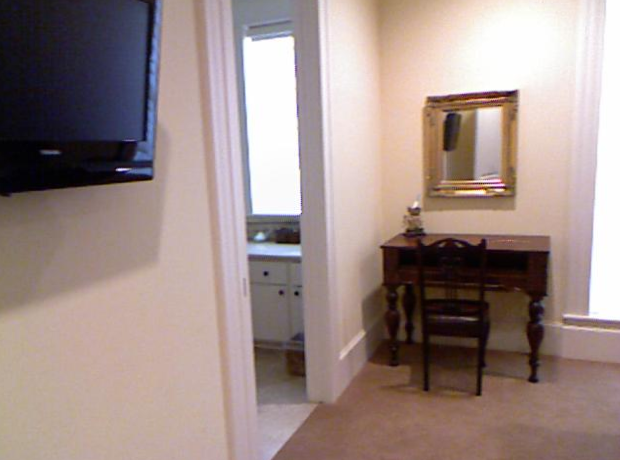cabinetDoor: (252, 286, 288, 340), (251, 262, 287, 281), (290, 287, 302, 340)
chair: (415, 238, 485, 396)
table: (387, 235, 551, 370)
window: (242, 30, 298, 215), (605, 1, 620, 313)
